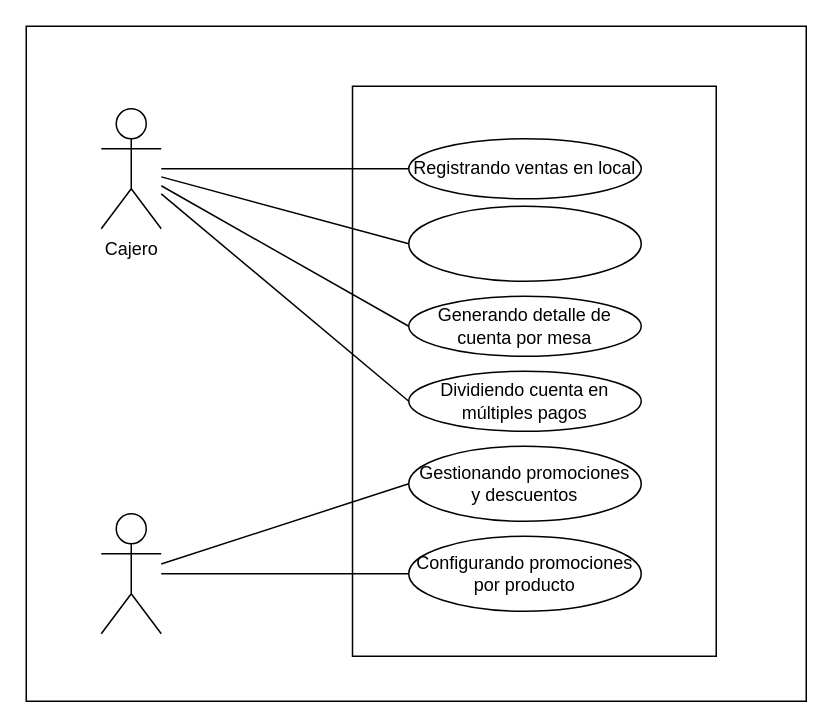
Some shapes in this 833 by 728 pixel diagram are drawn without their labels. Each missing label, with the box of its shape:
Administrador: (100, 512, 161, 634)
Registrando métodos de pago: (407, 205, 641, 281)
Sistema BrewFlow: (351, 85, 716, 656)
